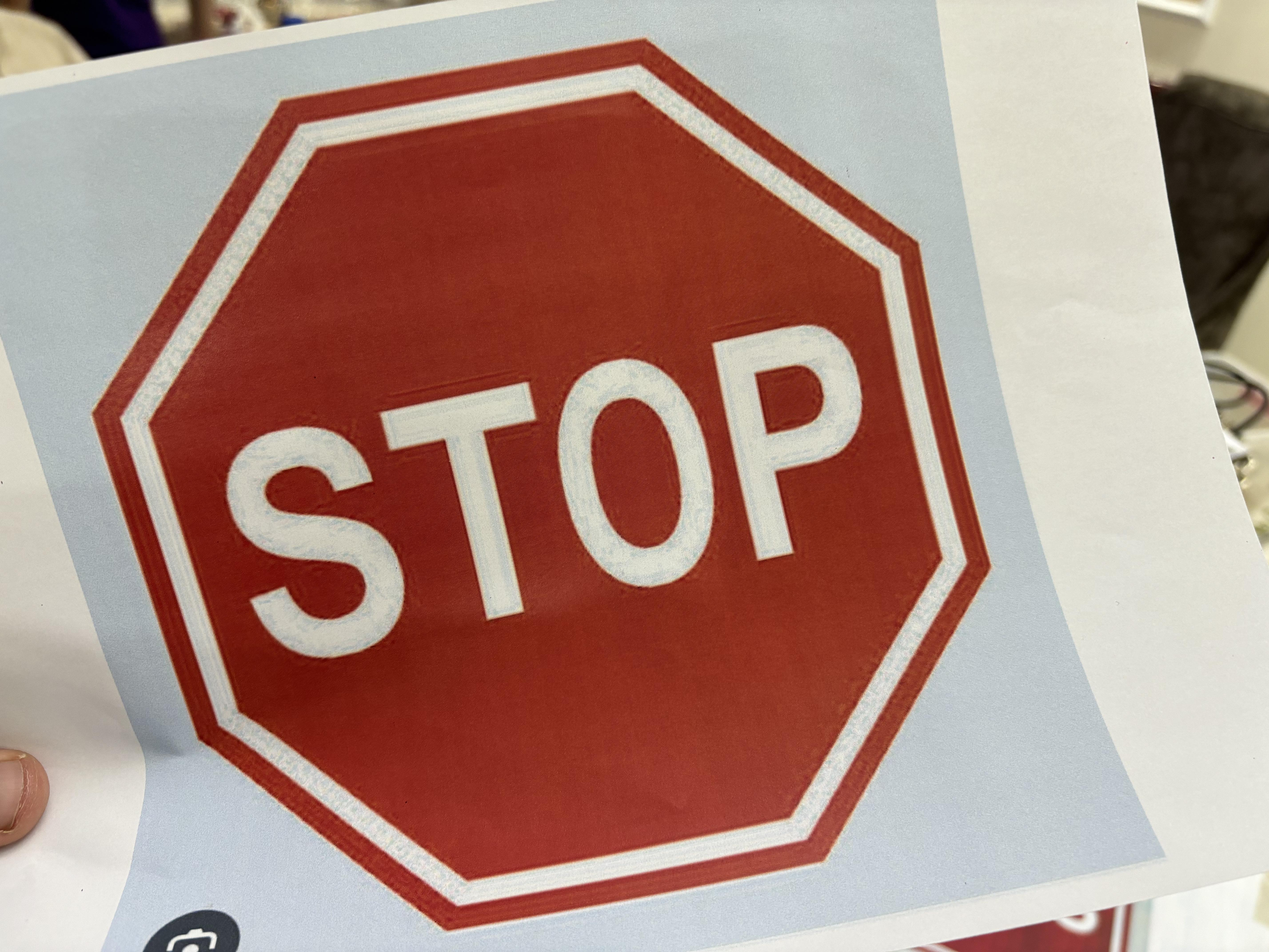Stop: (91, 29, 1000, 942)
